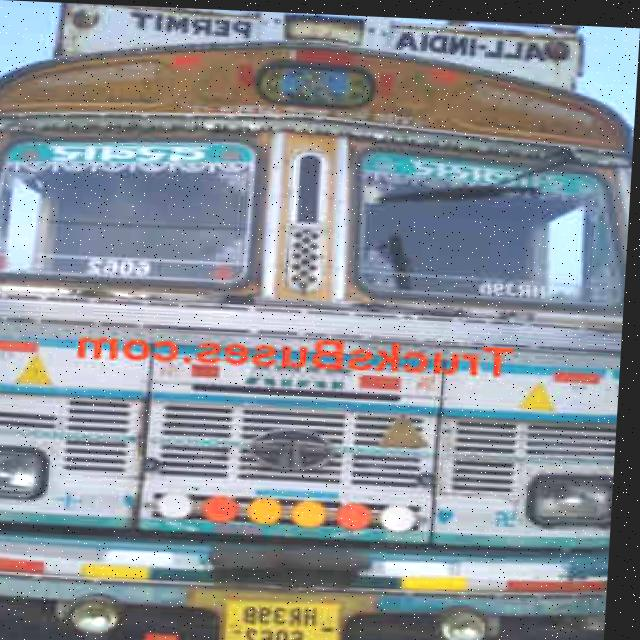plate: (224, 593, 355, 640)
